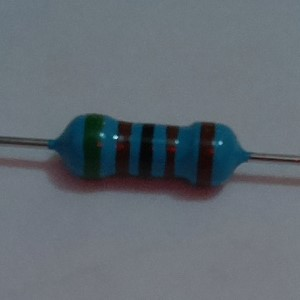black_band: (136, 121, 157, 179)
brown_band: (193, 120, 216, 188), (112, 118, 134, 178), (162, 123, 180, 180)
green_band: (80, 111, 106, 182)
